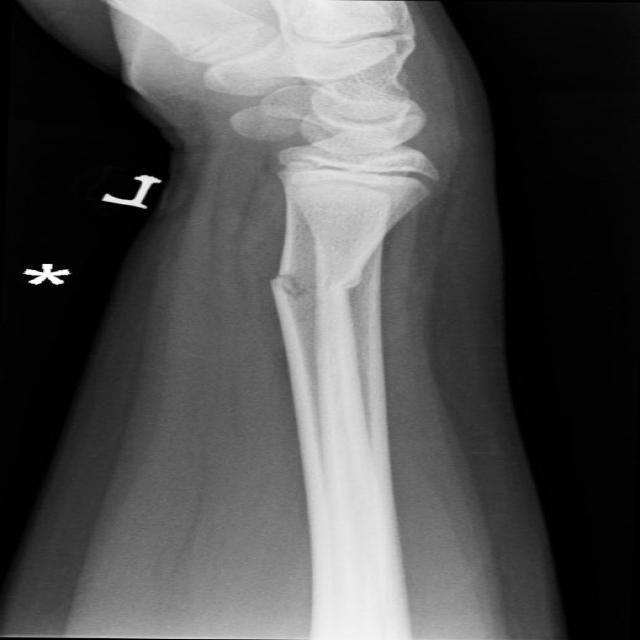Transverse Displaced: (256, 263, 406, 319)
